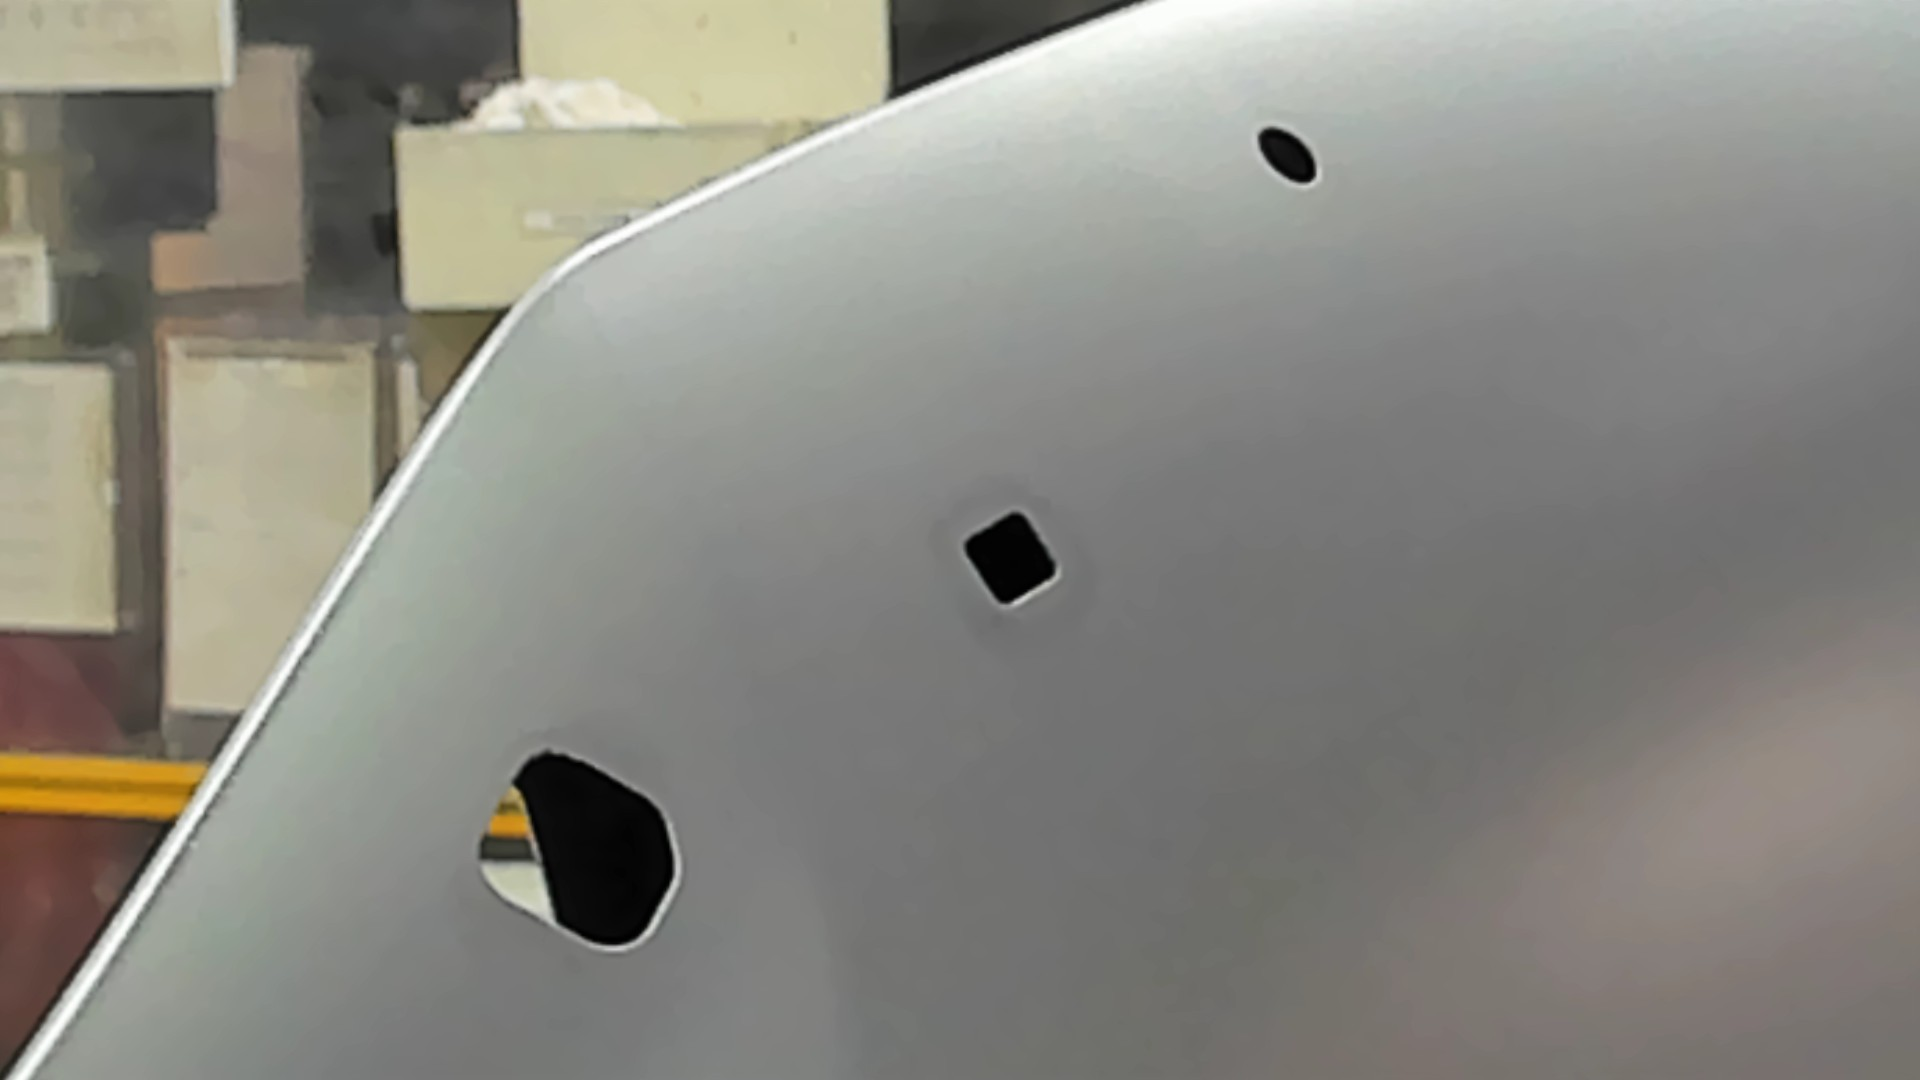chico: (1255, 121, 1323, 186)
grande: (477, 746, 686, 953)
mediano: (961, 505, 1064, 613)
